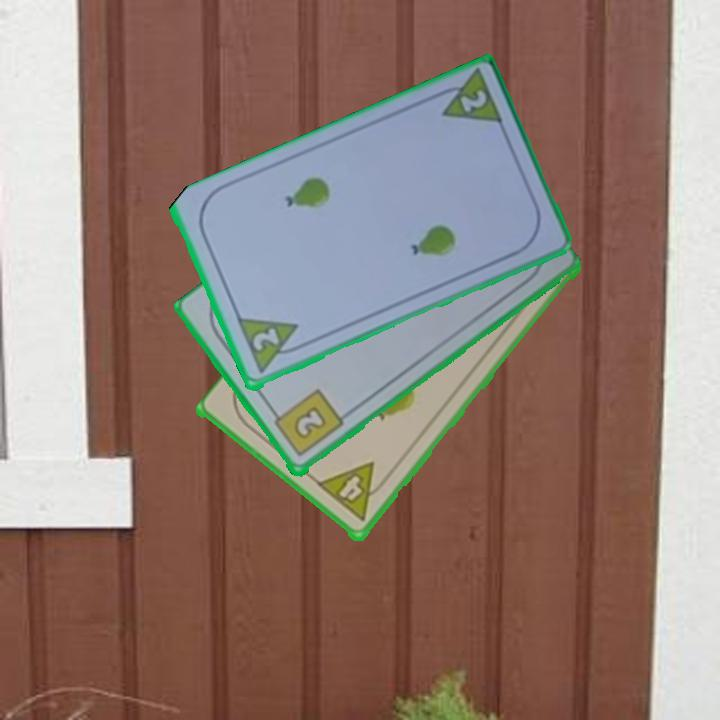2b: (267, 386, 346, 460)
2p: (428, 68, 506, 130), (233, 314, 308, 378)
4p: (314, 459, 392, 525)
